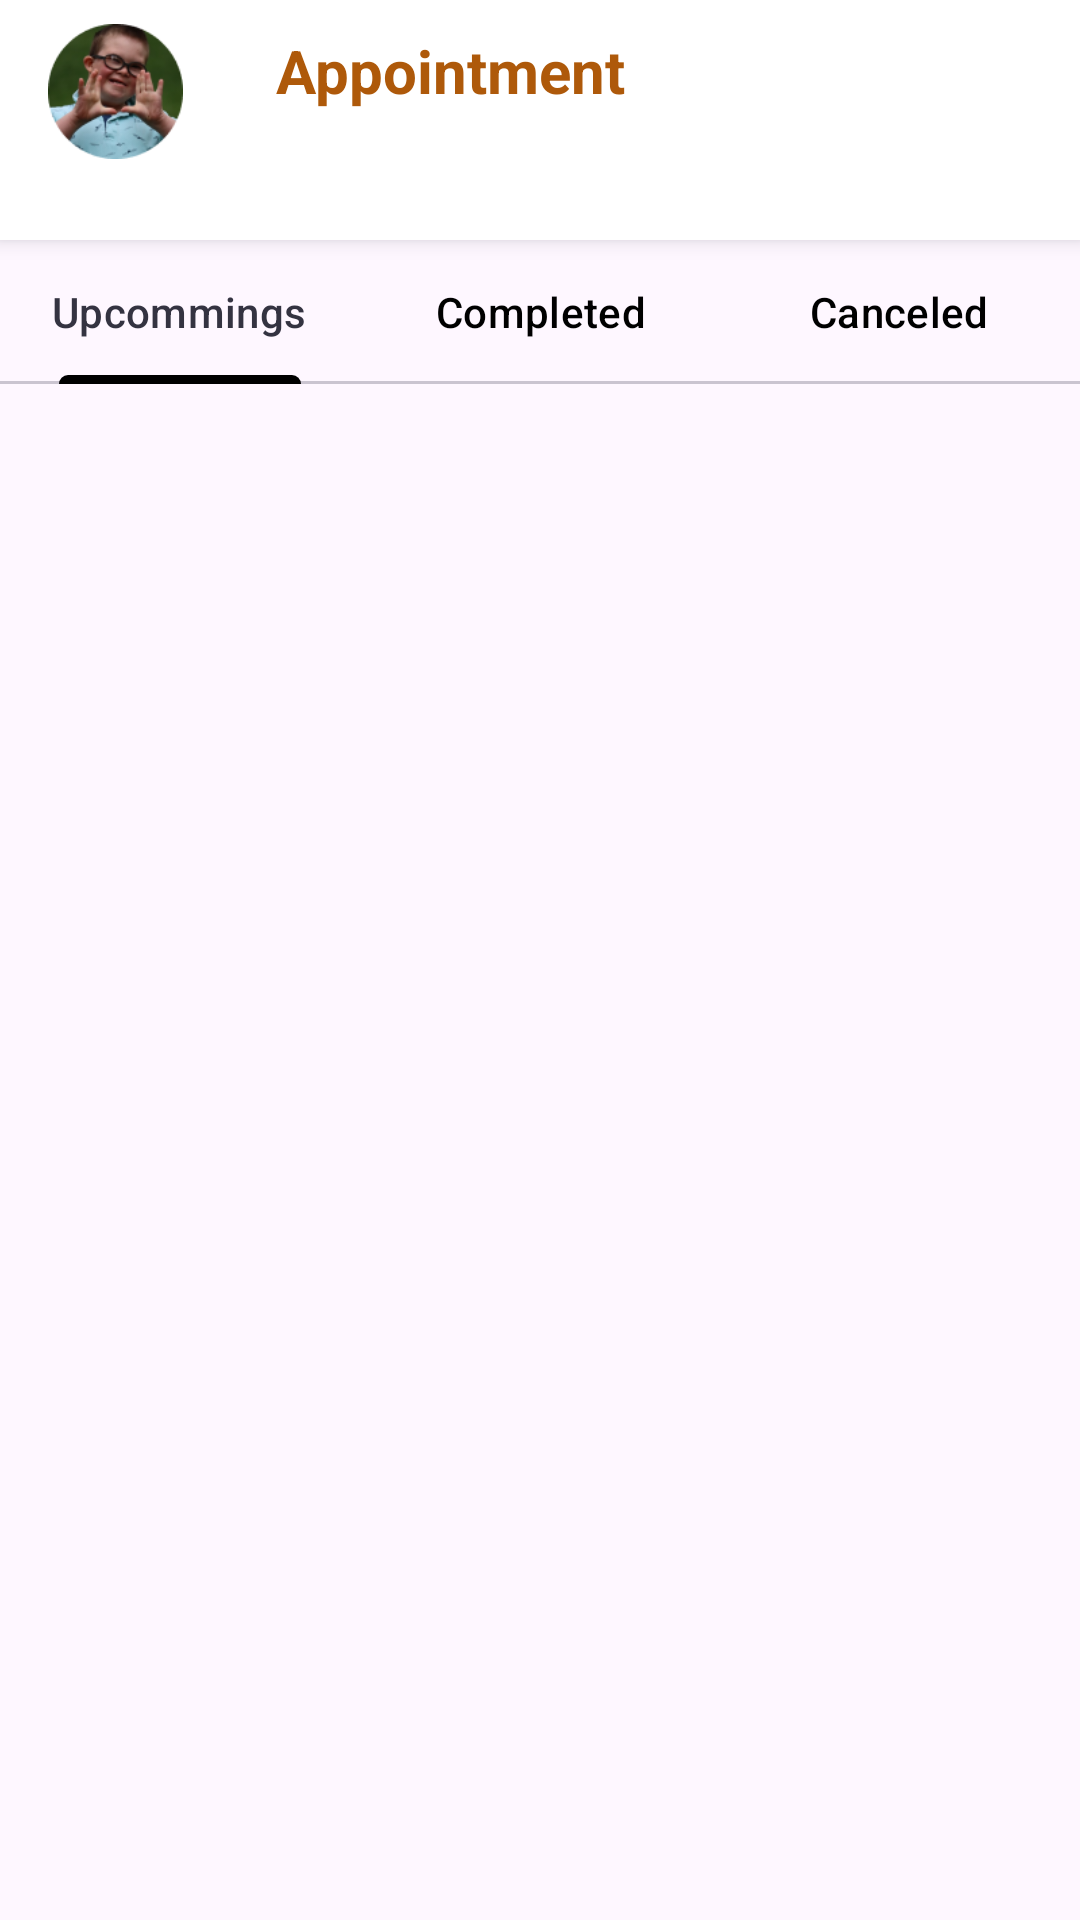

Icons on this 1080px x 1920px Android screen, each with the point to tap as point (x, y):
personpphoto: point (115, 91)
